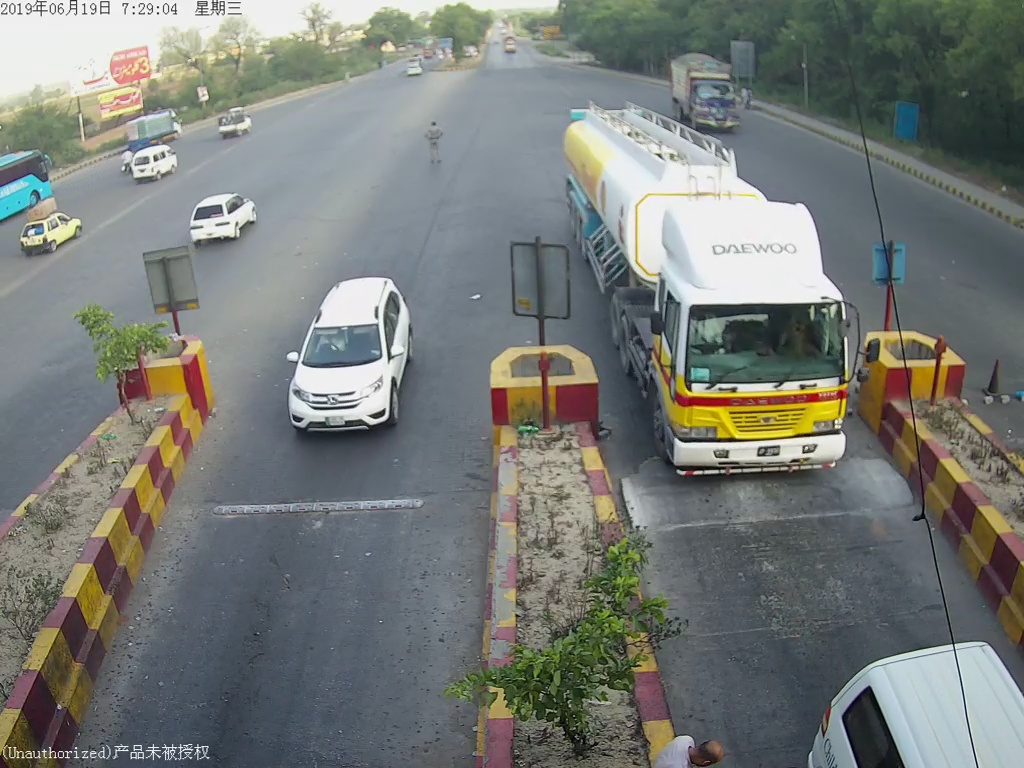Cat-1: (279, 278, 421, 431)
Cat-5: (560, 93, 874, 491)
